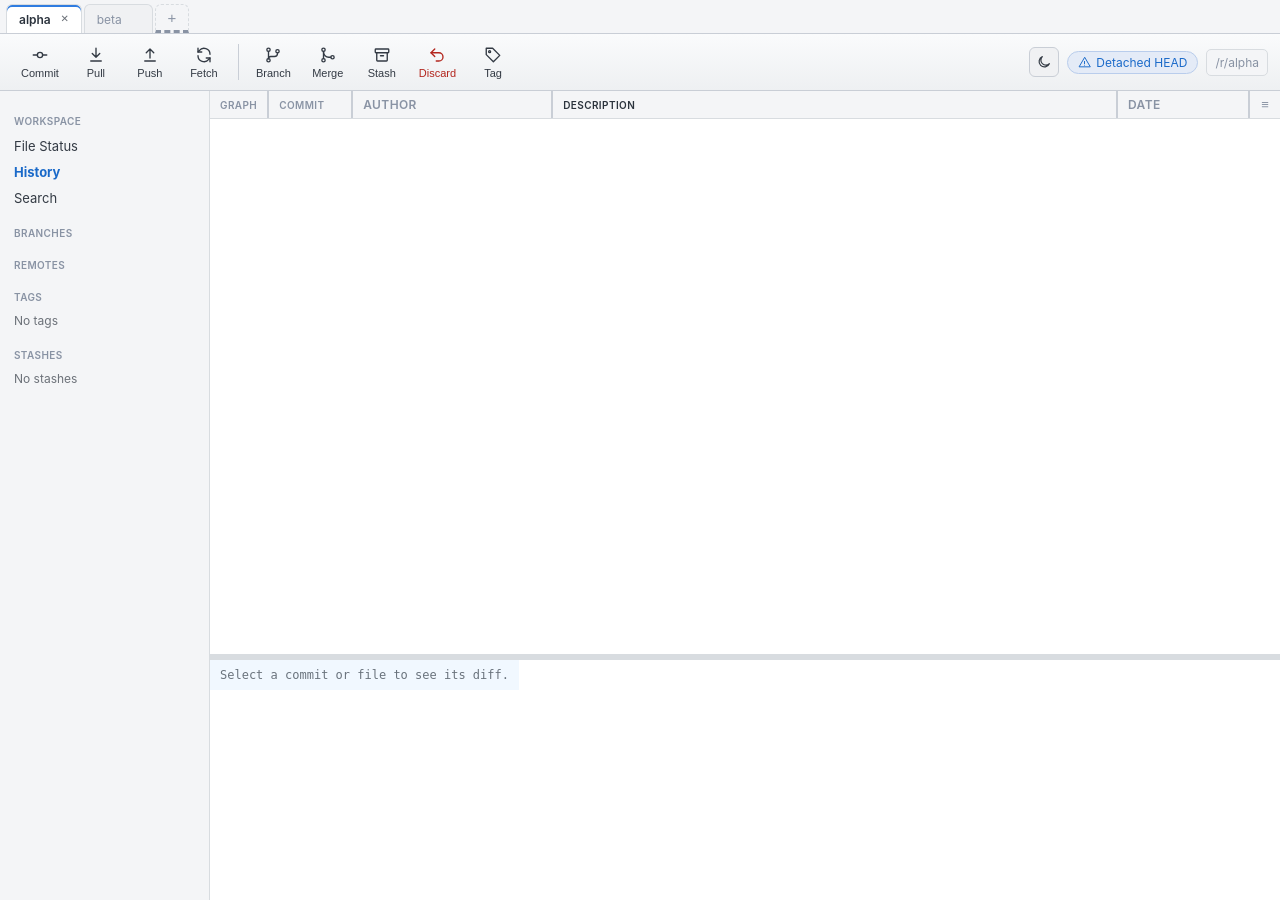
it: App tab session › closes a tab and activates a neighbour
Expected: the text "alpha" is shown, [19,12,51,26]
Click the button titled "Close alpha": (65, 19) [57,11,73,27]
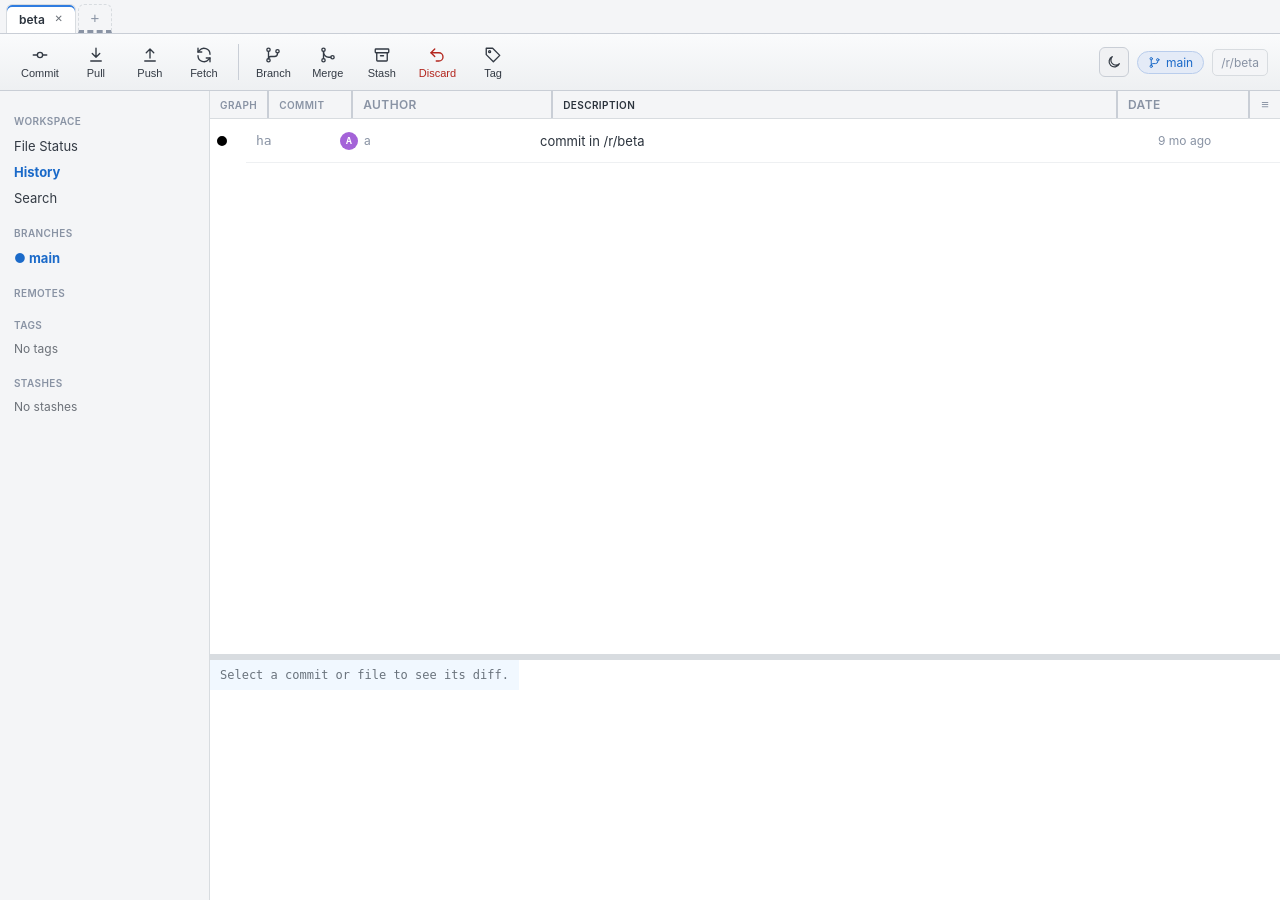
Expected: the text "alpha" is gone
